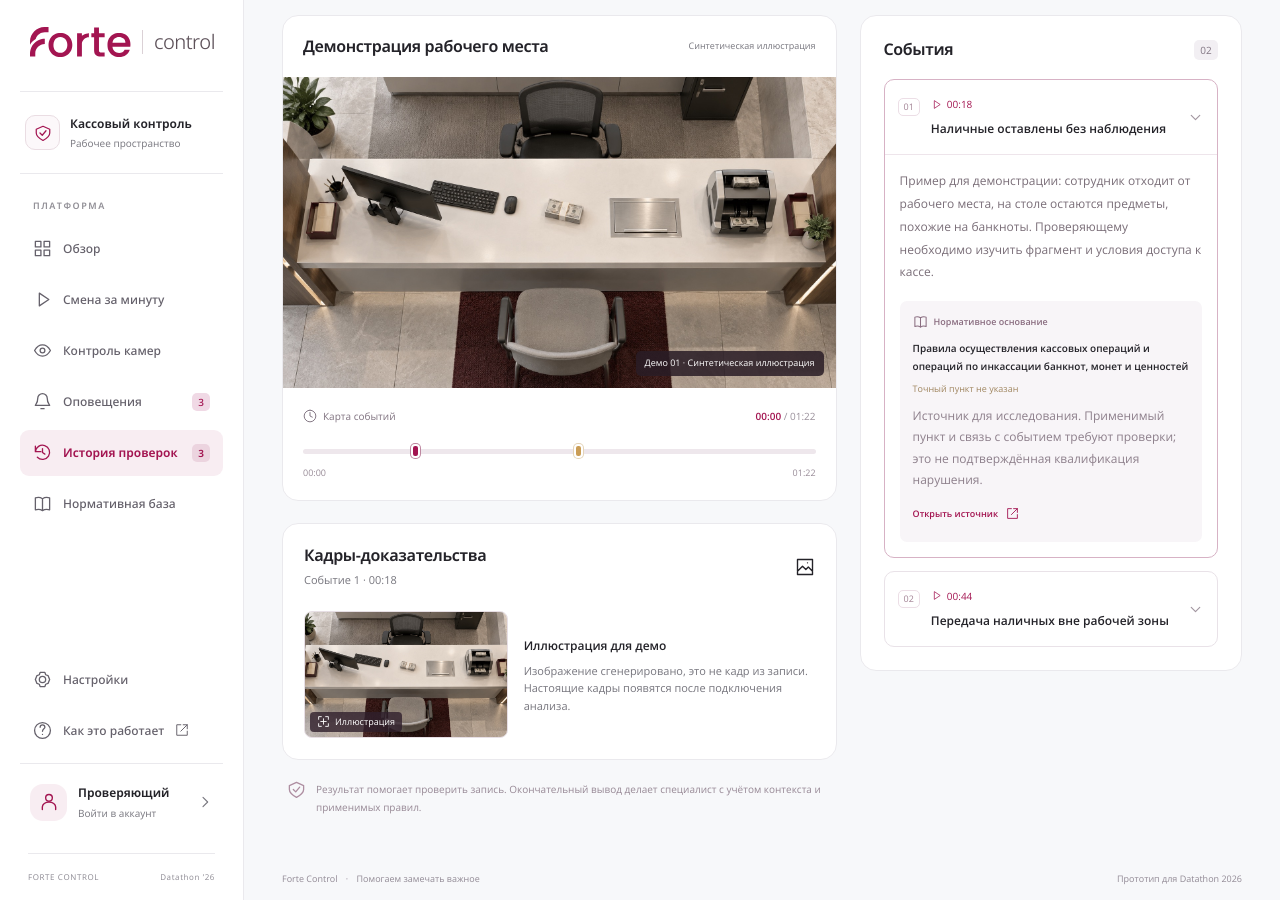
Test: event selection updates the evidence and shows missing rules honestly
(page scrolled)
Step 1. Click the button named "Перейти к событию 2" → (578, 451), box left=563, top=436, right=593, bottom=466
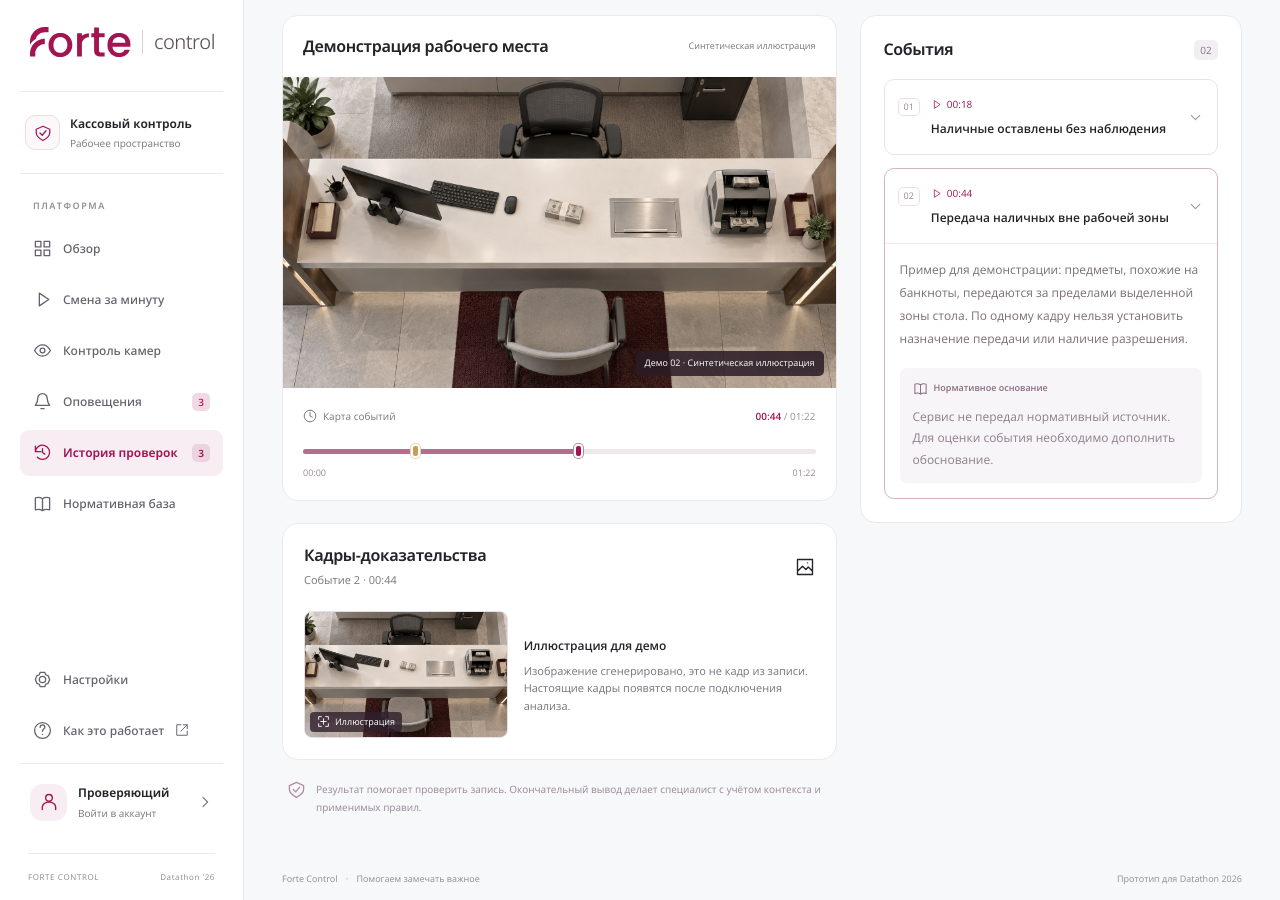
Result: the text "Событие 2 · 00:44" is shown at left=304, top=572, right=397, bottom=587
Result: the text "Сервис не передал нормативный источник" is shown at left=912, top=408, right=1175, bottom=468
